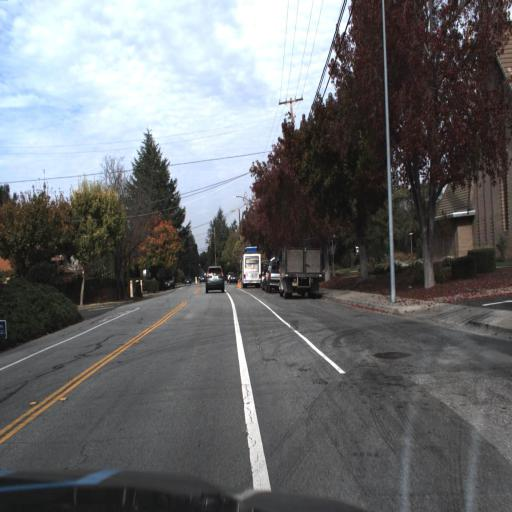car: (276, 239, 325, 303), (238, 250, 265, 293), (239, 249, 263, 294), (201, 262, 226, 297), (266, 249, 284, 292), (162, 270, 177, 293), (182, 271, 194, 289)
truck: (277, 244, 330, 300)
